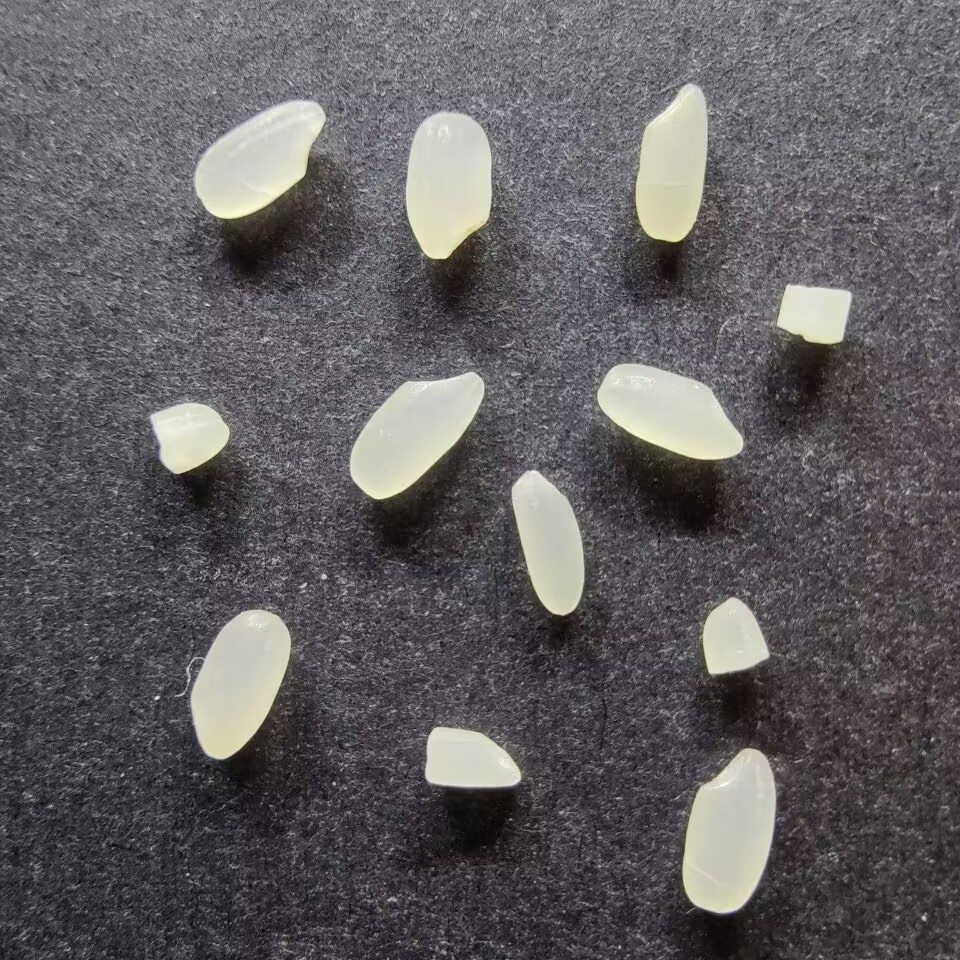broken: (422, 723, 523, 790), (147, 400, 232, 476), (700, 594, 771, 676), (775, 280, 855, 345)
rice: (346, 368, 485, 500), (679, 745, 778, 914), (191, 97, 326, 220), (187, 606, 291, 760), (595, 361, 747, 461), (402, 109, 493, 260), (632, 81, 710, 243), (509, 466, 586, 617)
